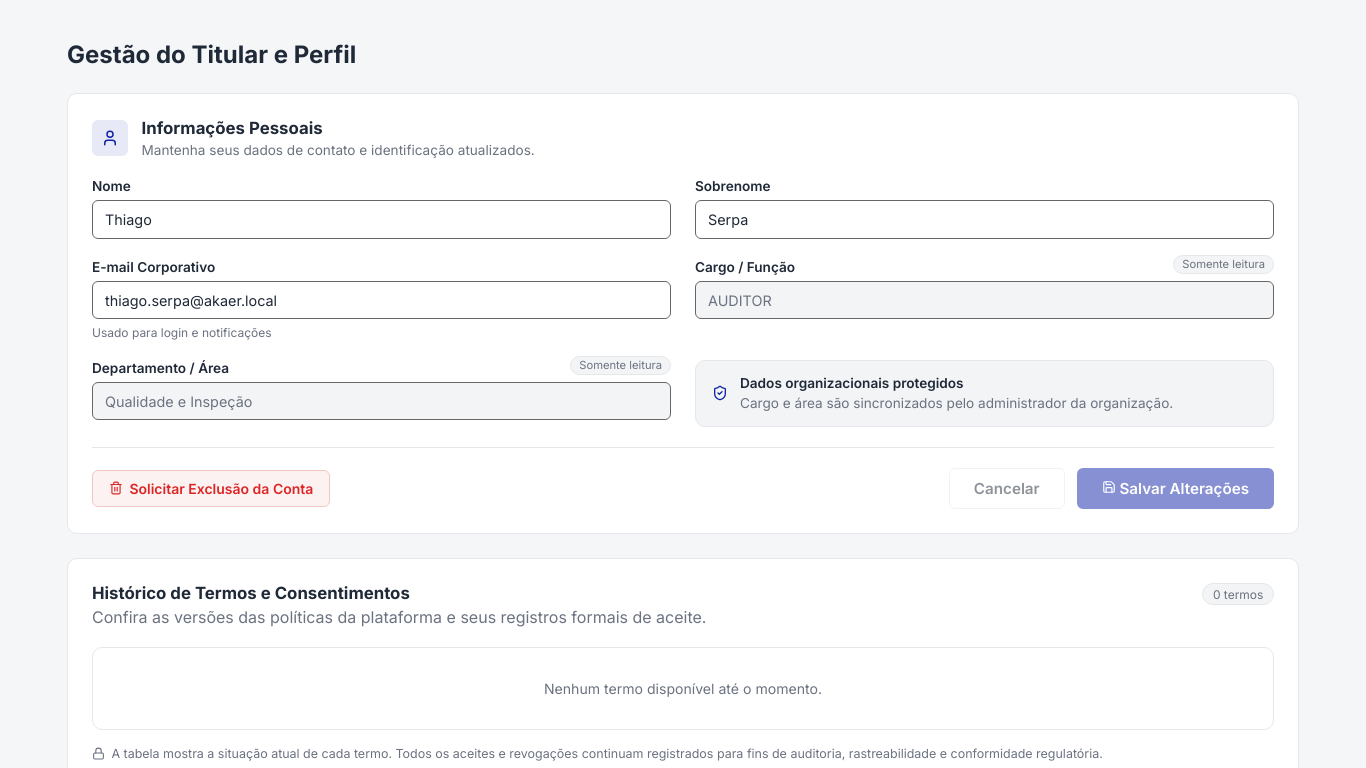
it: UserManagementView › should only enable save and cancel after a change, and restore on cancel
Expected: the button "Salvar Alterações" is disabled, [1077, 468, 1274, 509]
Replace the text in the field with id "first-name" with "Tiago" at (382, 220), box [92, 200, 671, 239]
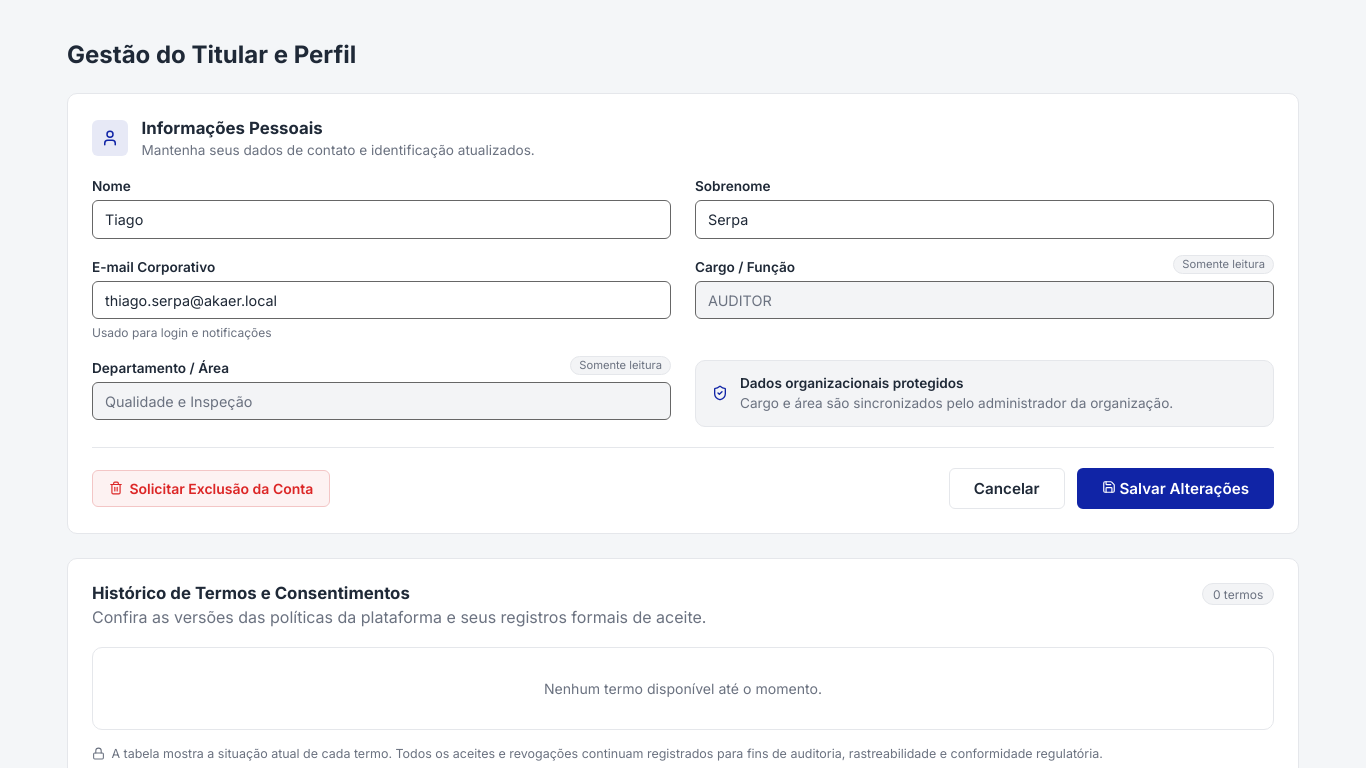
Result: the button "Salvar Alterações" is enabled at [1077, 468, 1274, 509]
Click the button "Cancelar" at (1007, 488), box [949, 468, 1065, 509]
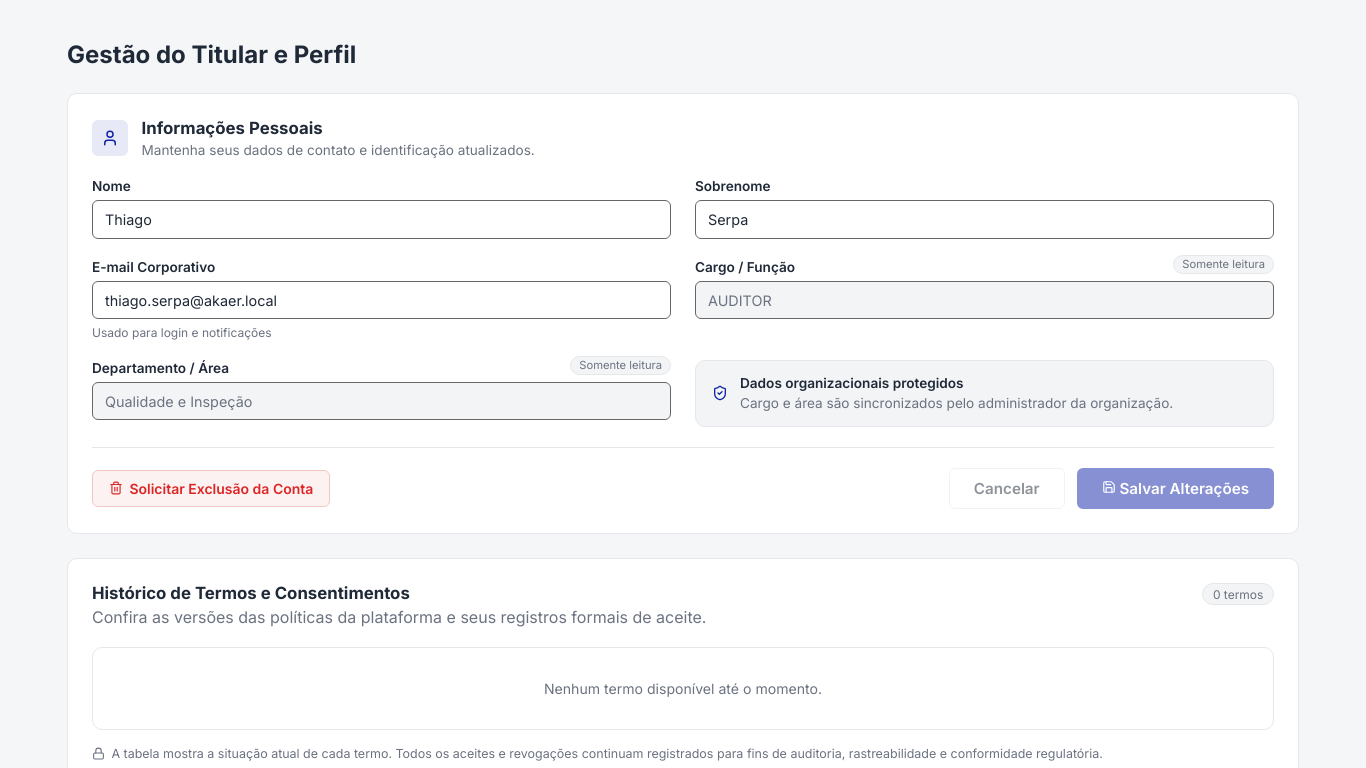
Result: the field with id "first-name" holds "Thiago" at [92, 200, 671, 239]
Result: the button "Salvar Alterações" is disabled at [1077, 468, 1274, 509]
